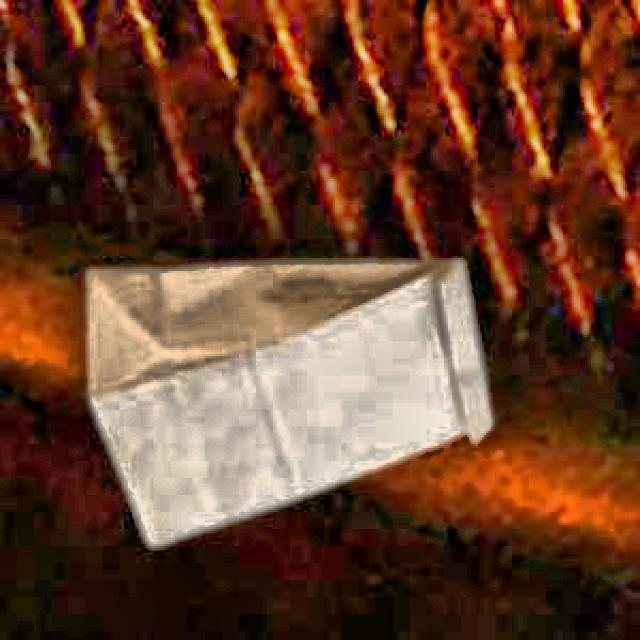Paper-bag: (71, 229, 531, 557)
